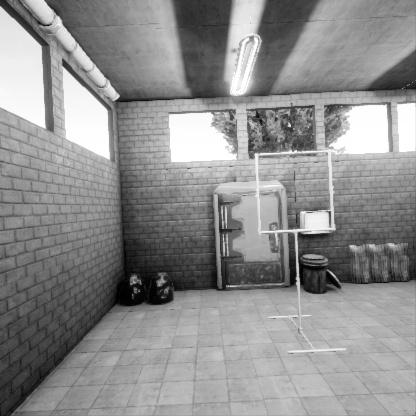gate: (255, 184, 339, 269)
